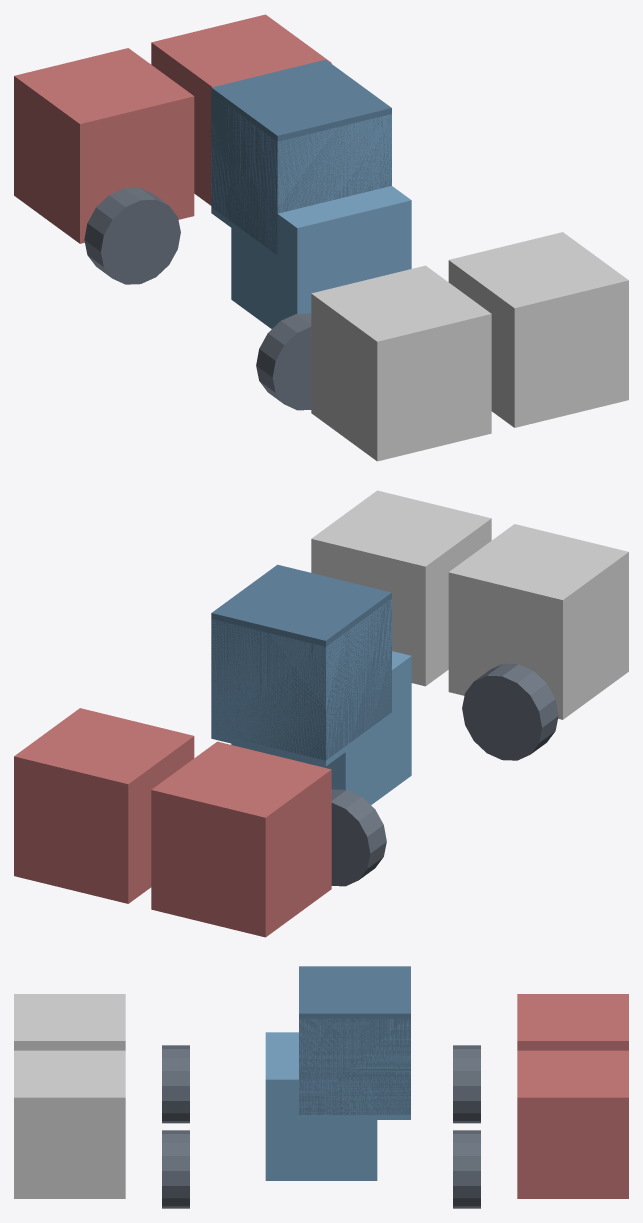
File: veh_car_sedan_blue.glb
3 renders of one model, top to bottom at view 1: azimuth 30°, elevation 25°; view 2: azimuth 150°, elevation 25°; view 3: azimuth 270°, elevation 25°, orthographic. The views are drawn at different scales.
Visible parts, largest first — view 1: world; view 2: world; view 3: world.
Part boxes in pixels (x1=…): world: x1=14, y1=14, x2=628, y2=461; world: x1=14, y1=490, x2=628, y2=937; world: x1=14, y1=966, x2=628, y2=1208.
Size of the model in its own units: 2.5 by 1.7 by 5.5.
